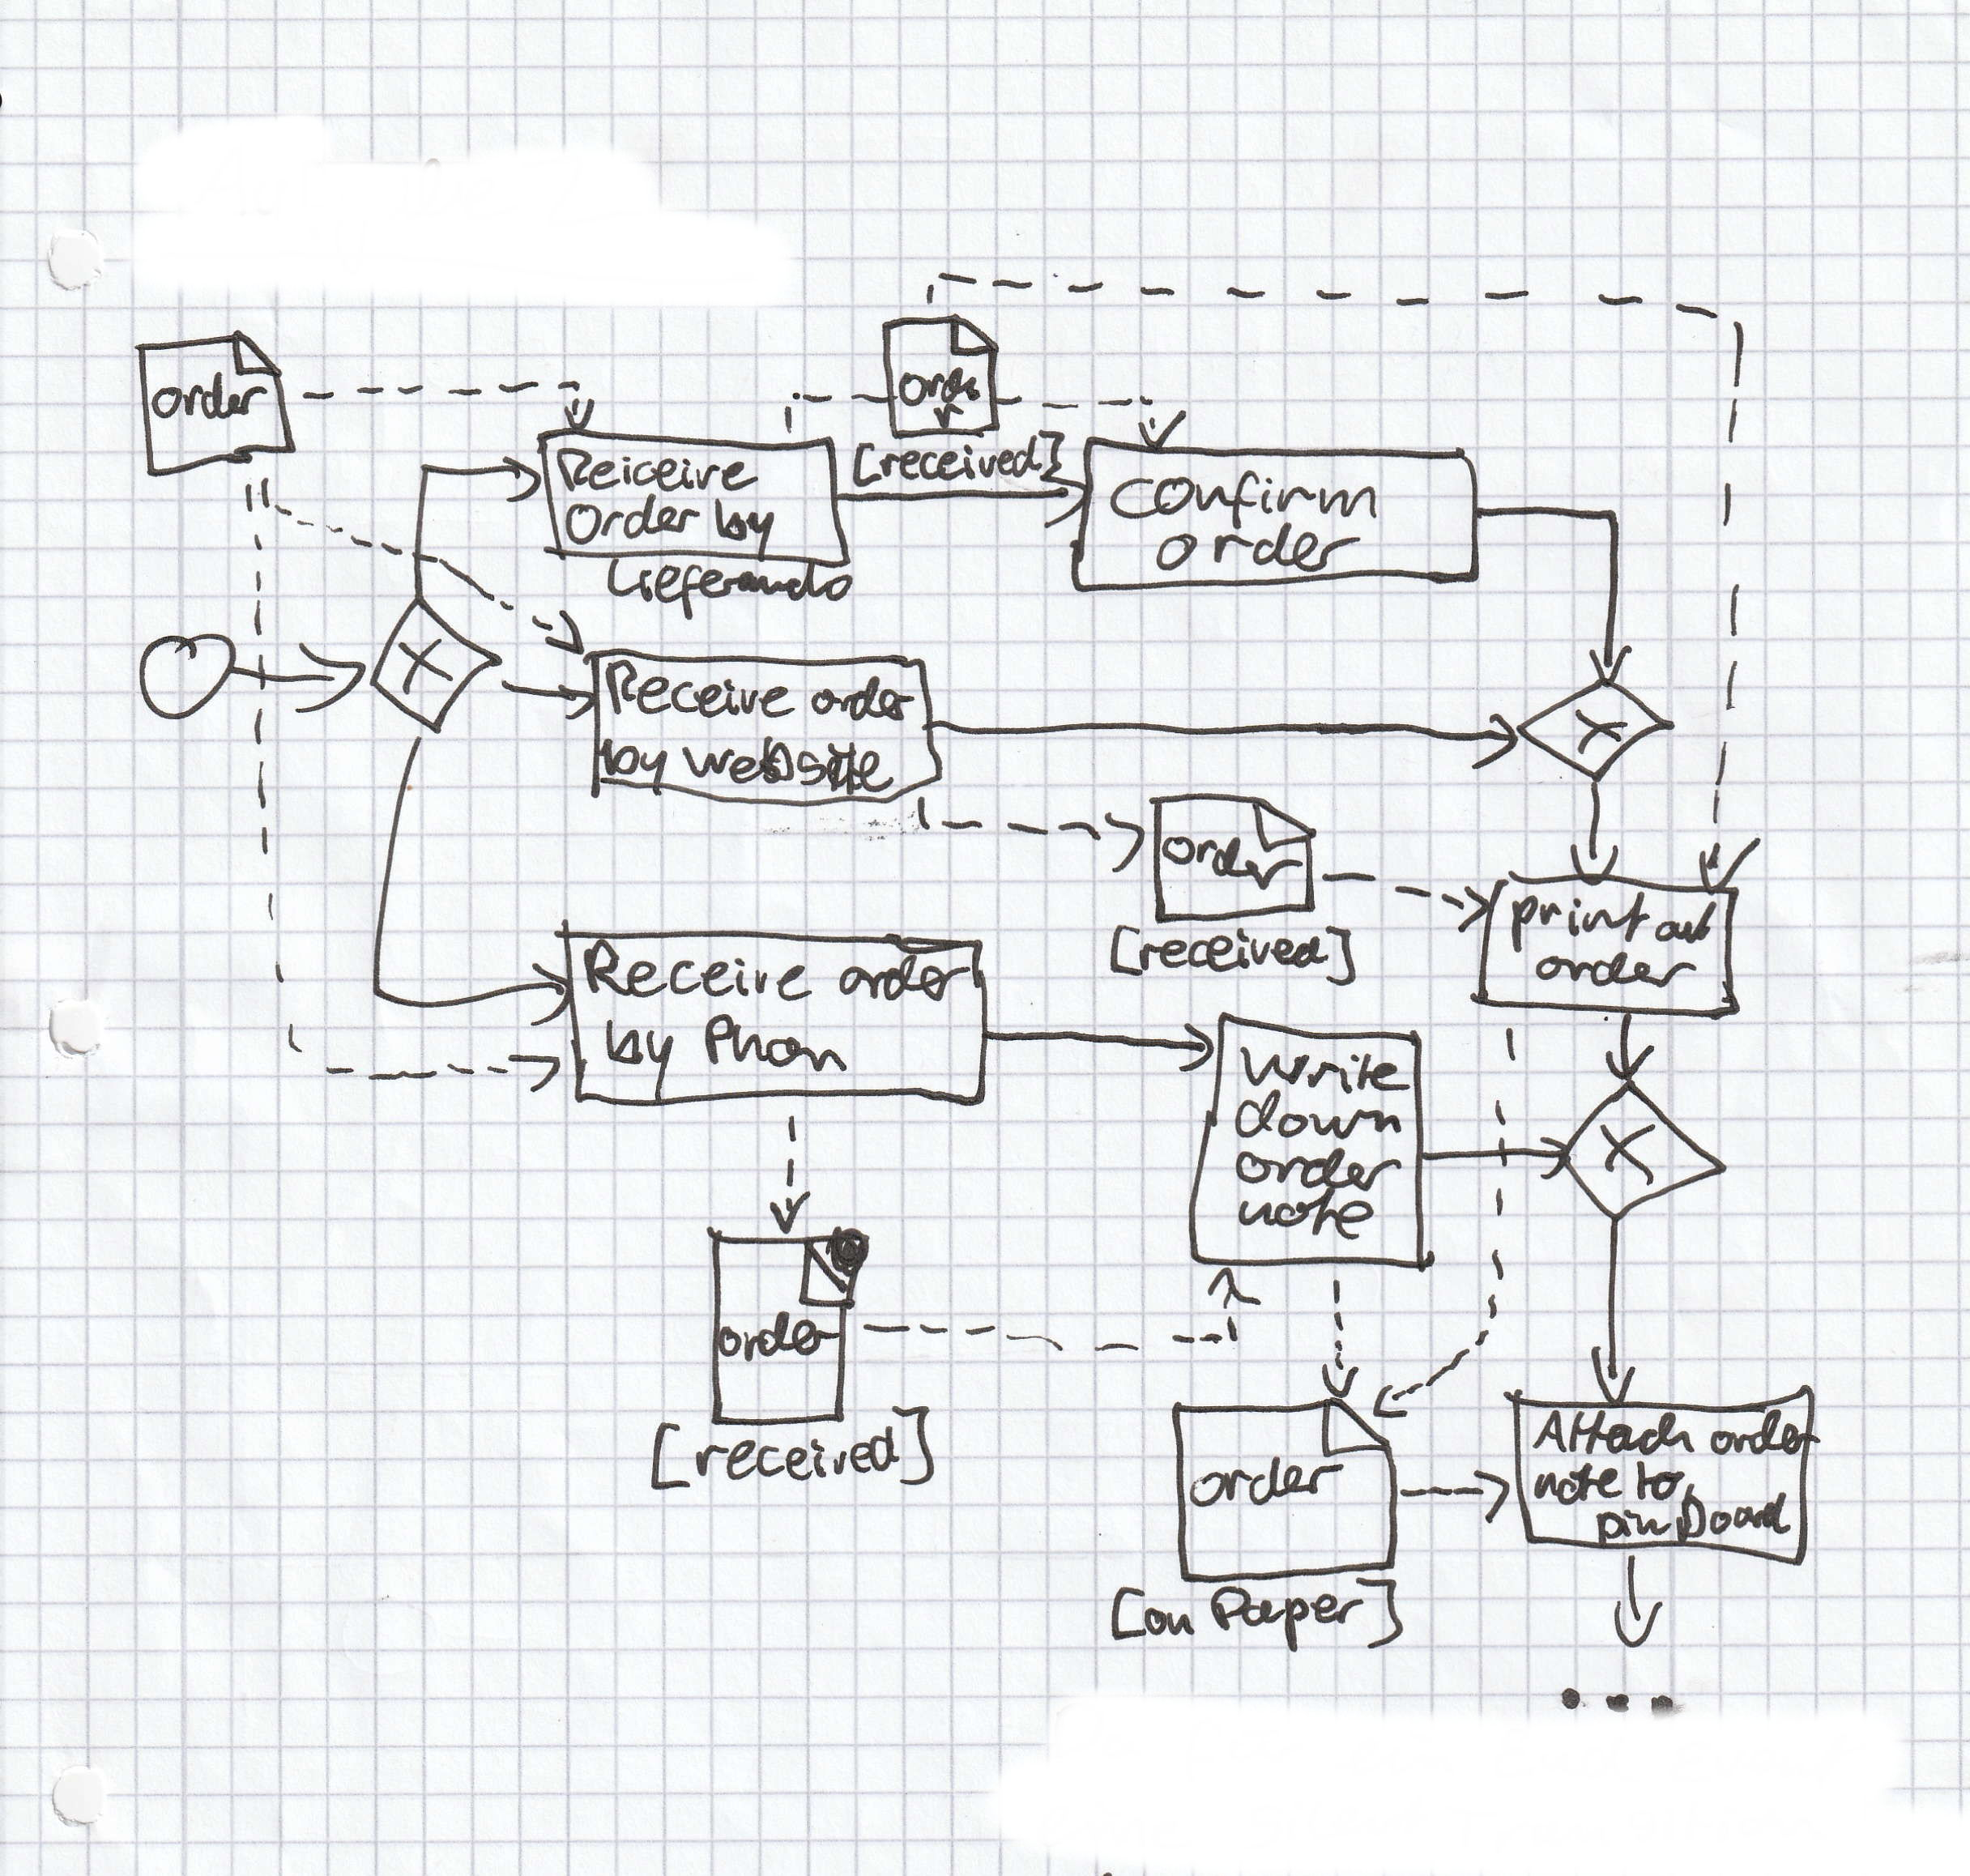Attach: (1530, 1405, 1699, 1456)
Lieferando: (602, 557, 855, 621)
Paper]: (1207, 1577, 1405, 1654)
Phon: (702, 1013, 851, 1073)
Receive: (582, 935, 818, 1002), (603, 659, 799, 716)
Reiceive: (554, 443, 760, 494)
[on: (1108, 1582, 1196, 1647)
[received]: (649, 1403, 939, 1494), (1108, 923, 1367, 986), (850, 425, 1062, 489)
by: (603, 1016, 681, 1095), (598, 738, 674, 796), (711, 494, 779, 556)
confirm: (1108, 468, 1381, 526)
down: (1231, 1090, 1404, 1143)
note: (1235, 1189, 1381, 1241), (1534, 1461, 1623, 1505)
order: (1154, 524, 1361, 577), (1161, 832, 1307, 893), (1189, 1456, 1347, 1510), (1233, 1146, 1405, 1190), (835, 949, 973, 1004), (563, 496, 702, 547), (1534, 948, 1697, 990), (716, 1313, 841, 1364), (151, 371, 267, 422), (807, 672, 918, 723), (1708, 1407, 1822, 1456), (897, 366, 981, 431)
out: (1653, 897, 1720, 948)
pinboard: (1595, 1484, 1794, 1545)
print: (1507, 891, 1650, 955)
to: (1631, 1454, 1687, 1505)
website: (679, 733, 897, 795)
write: (1237, 1043, 1411, 1095)
